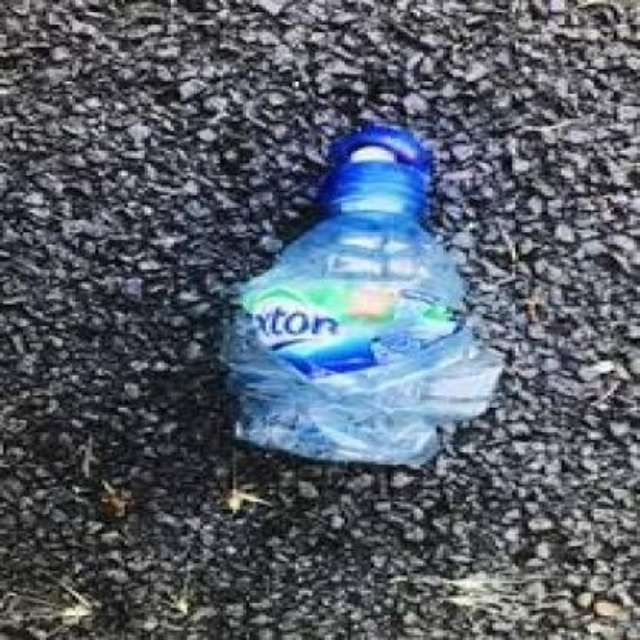trash: (226, 123, 502, 465)
